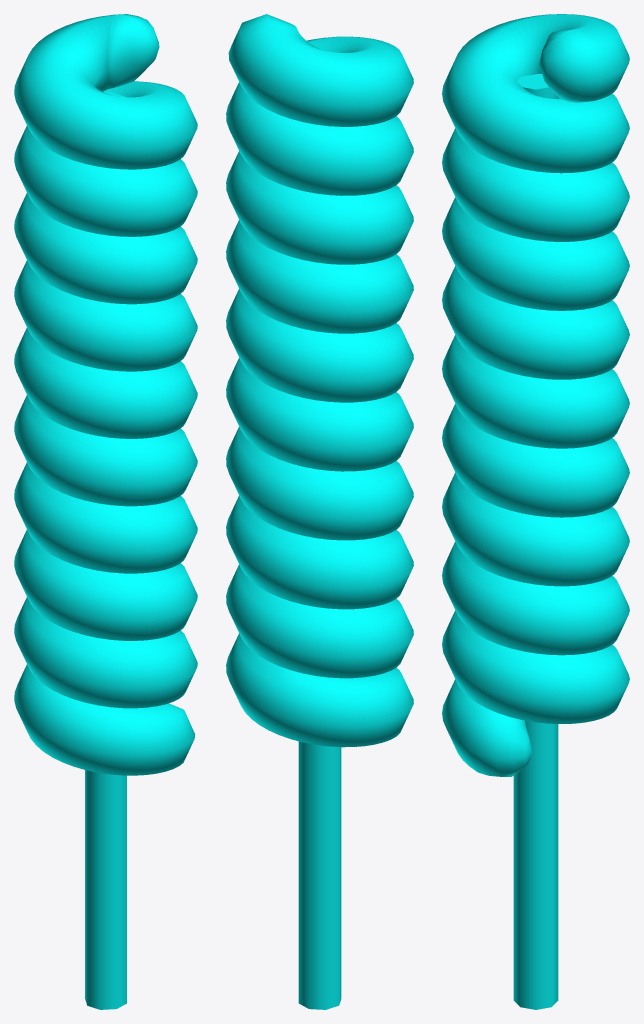
Rendered from Piruleta HP.fbx.
3 views of the same model, side by side, from view 1: azimuth 30°, elevation 25°; view 2: azimuth 150°, elevation 25°; view 3: azimuth 270°, elevation 25° (orthographic). The views are drawn at different scales.
Visible parts, largest first — view 1: Piruleta; view 2: Piruleta; view 3: Piruleta.
Boxes of the visible parts, box(x1,y1,x2,y2) form: Piruleta: box(14, 14, 197, 1009); Piruleta: box(226, 14, 413, 1009); Piruleta: box(442, 14, 629, 1009).
Bounding box in the file's own units: 137 × 795 × 137.
